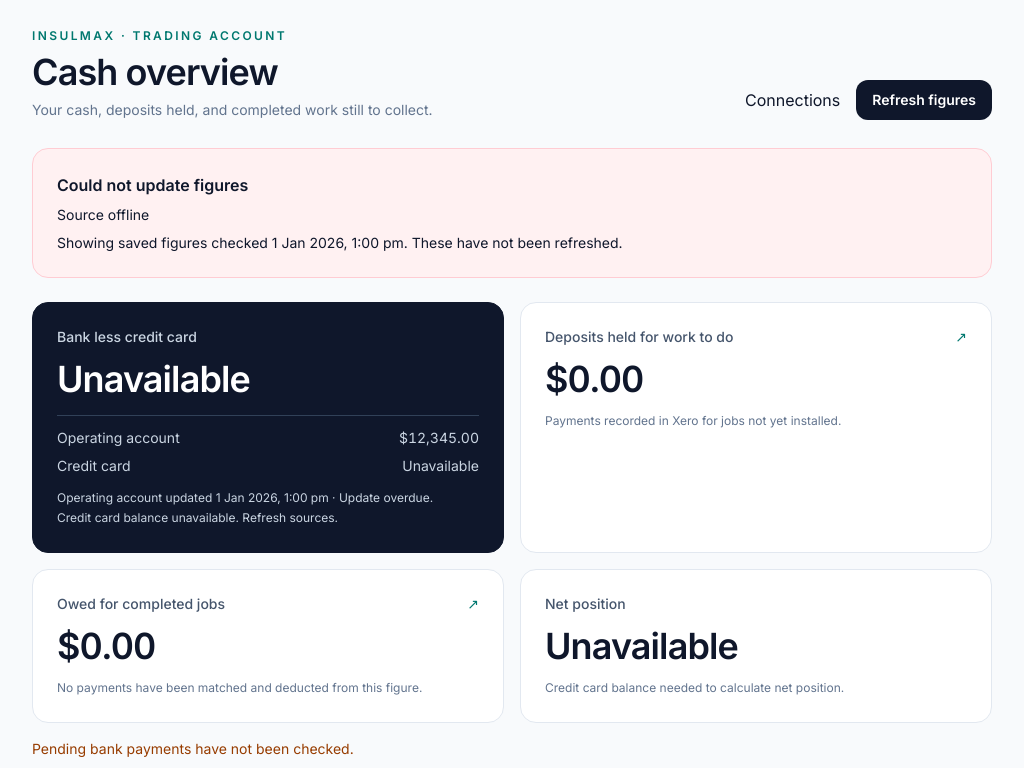
it: shows an expired snapshot while updating and keeps it if the update fails
Expected: the heading "Could not update figures" is shown, x1=57 y1=175 x2=248 y2=195
Expected: the text "$12,345.00" is shown, x1=399 y1=428 x2=479 y2=448
Click the button "Refresh figures" at (924, 100), box x1=856 y1=80 x2=992 y2=120
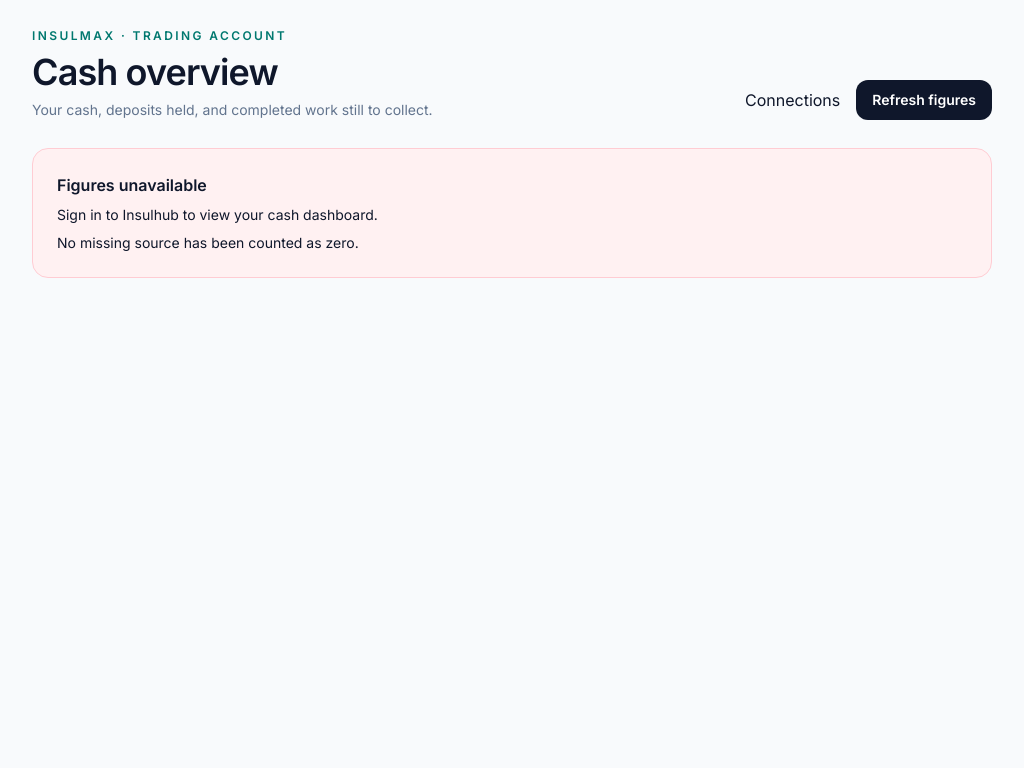
Result: the heading "Figures unavailable" is shown at x1=57 y1=175 x2=207 y2=195
Result: the text "$12,345.00" is gone
